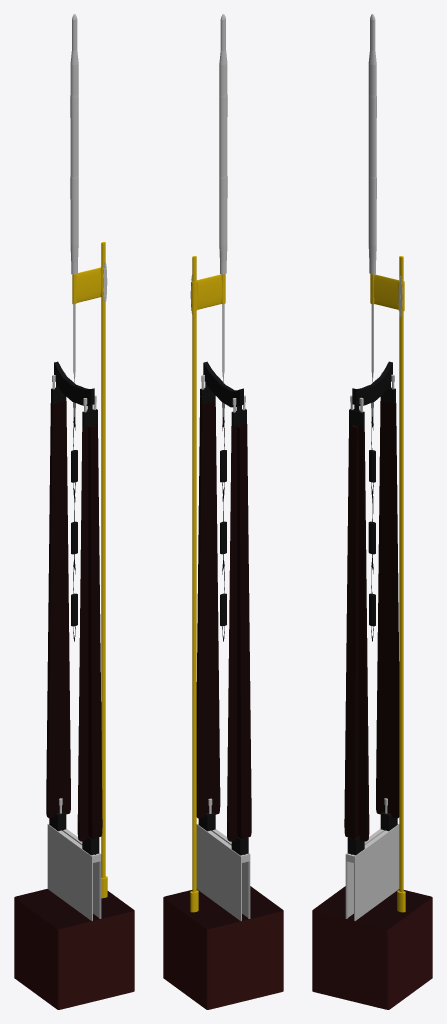
File: ЮНГ відредагований 2.0blend.fbx
3 renders of one model, left to right at view 1: azimuth 30°, elevation 25°; view 2: azimuth 210°, elevation 25°; view 3: azimuth 330°, elevation 25°, orthographic.
Visible parts, largest first — view 1: Cube (×7); view 2: Cube (×8); view 3: Cube (×7).
Boxes of the visible parts, x1=… form: Cube (×7): x1=14, y1=14, x2=134, y2=1009; Cube (×8): x1=163, y1=14, x2=283, y2=1009; Cube (×7): x1=312, y1=14, x2=432, y2=1009.
Bounding box in the file's own units: 2 × 24.04 × 2.
